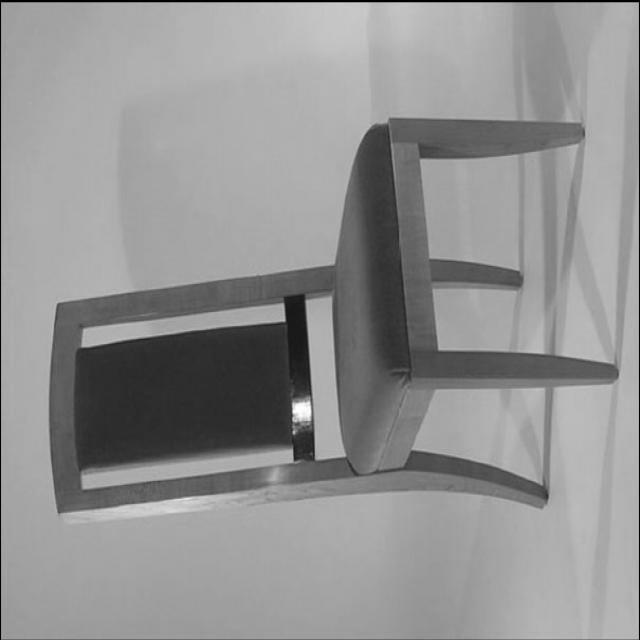chair: (47, 118, 617, 526)
